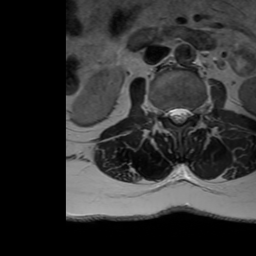CCS_normal: (175, 99, 182, 133)
LFS_stenosis: (190, 99, 197, 122)
LLS_normal: (182, 99, 190, 126)
RFS_normal: (158, 100, 166, 125)
RLS_normal: (166, 101, 175, 128)
